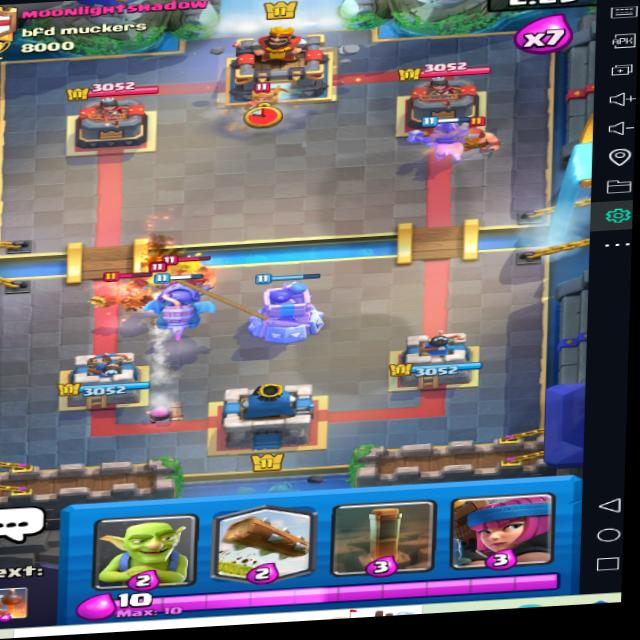fisherman: (165, 258, 237, 296)
little-prince: (235, 79, 290, 125)
lumberjack: (448, 114, 513, 160)
phoenix: (77, 269, 184, 323)
